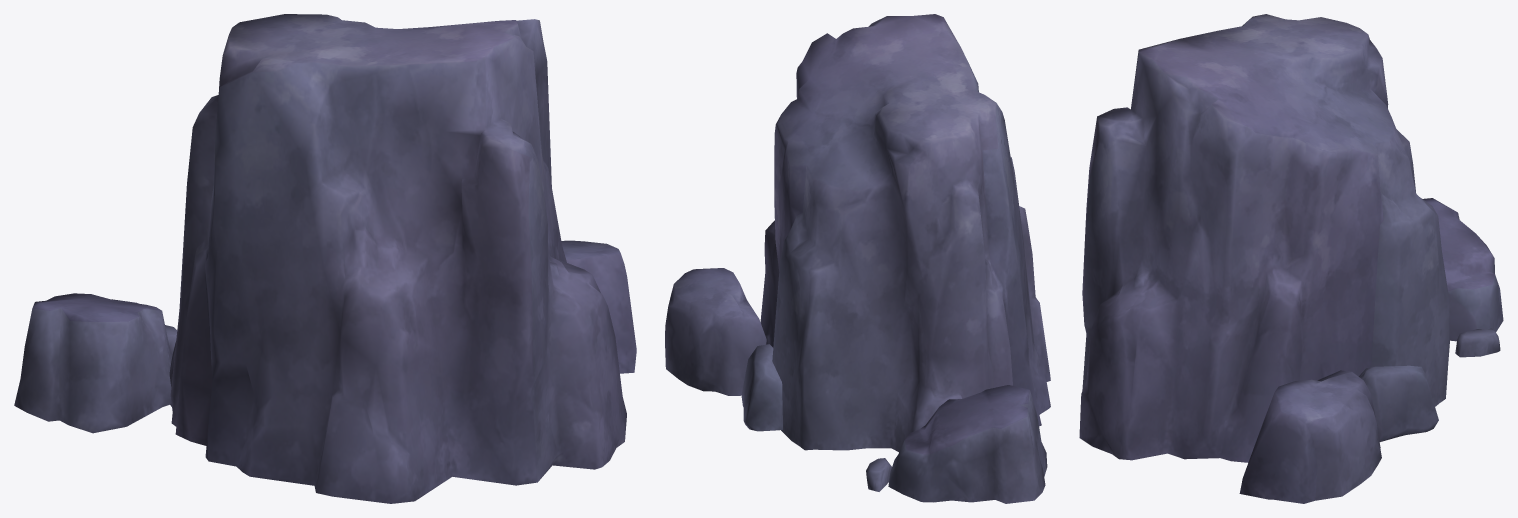
Rendered from Battle_haijie_shanshi04_fbx.fbx.
The picture shows the model from 3 angles, left to right: view 1: azimuth 30°, elevation 25°; view 2: azimuth 150°, elevation 25°; view 3: azimuth 270°, elevation 25°; orthographic projection. The views are drawn at different scales.
Visible parts, largest first — view 1: Battle_haijie_shanshi04_fbx__3_; view 2: Battle_haijie_shanshi04_fbx__3_; view 3: Battle_haijie_shanshi04_fbx__3_.
Boxes of the visible parts, x1,y1,x2,y2 form: Battle_haijie_shanshi04_fbx__3_: (14,14,636,503); Battle_haijie_shanshi04_fbx__3_: (665,14,1050,503); Battle_haijie_shanshi04_fbx__3_: (1079,14,1503,503).
Size of the model in its own units: 2468 by 1816 by 1972.
